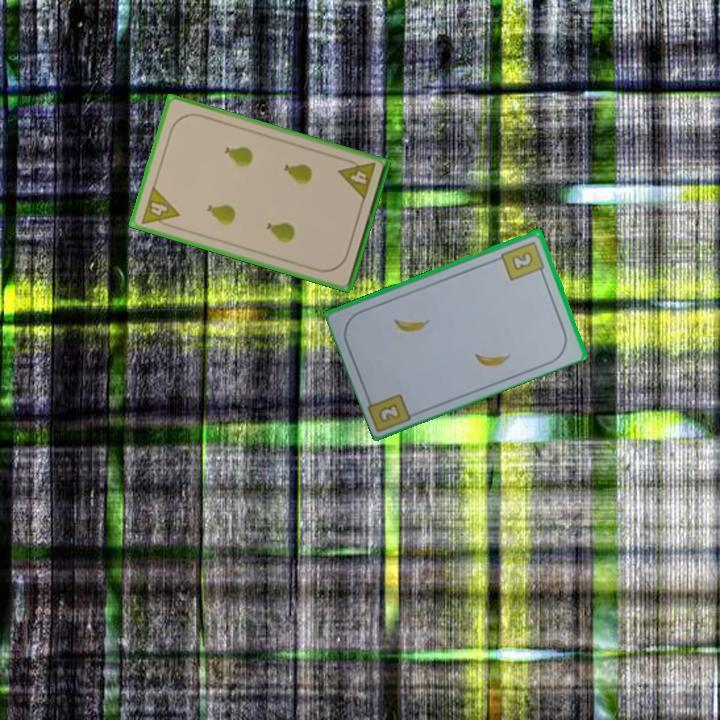2b: (498, 237, 548, 283), (375, 400, 404, 425)
4p: (137, 183, 182, 232), (335, 155, 378, 203)
